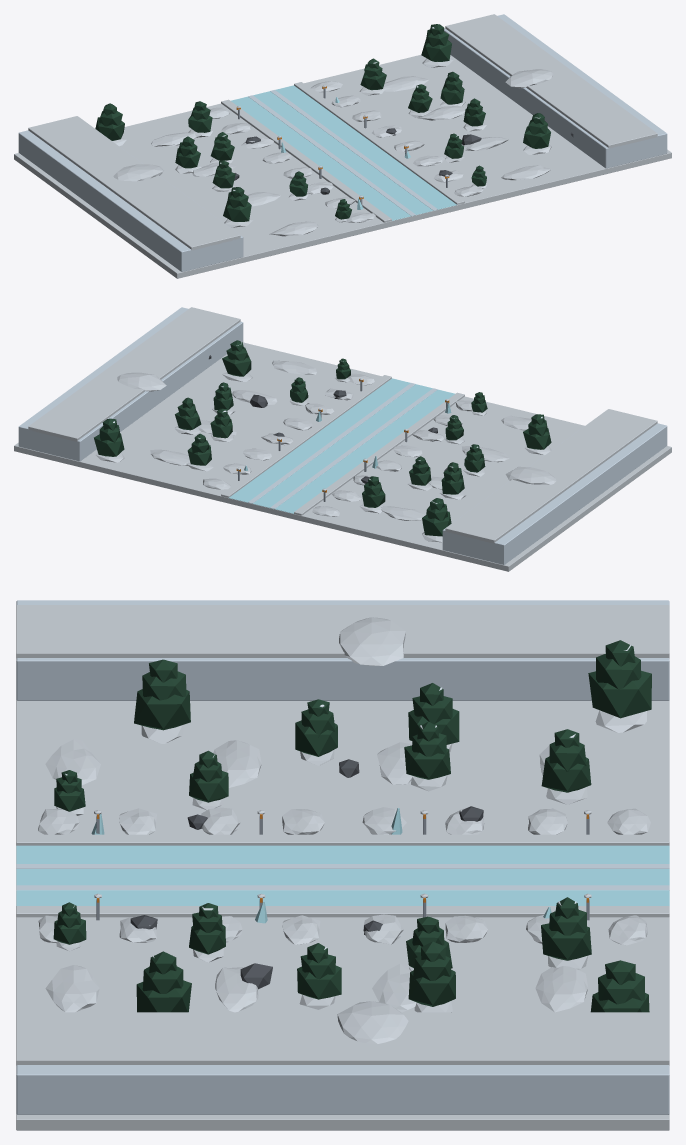
Rendered from MenuRideSegment_C.fbx.
The picture shows the model from 3 angles, top to bottom: view 1: azimuth 30°, elevation 25°; view 2: azimuth 150°, elevation 25°; view 3: azimuth 270°, elevation 25°; orthographic projection. The views are drawn at different scales.
Visible parts, largest first — view 1: MenuRideSegment_C; view 2: MenuRideSegment_C; view 3: MenuRideSegment_C.
Boxes of the visible parts, box(x1,y1,x2,y2) form: MenuRideSegment_C: box(14, 14, 671, 278); MenuRideSegment_C: box(14, 307, 671, 571); MenuRideSegment_C: box(16, 600, 669, 1130).
Size of the model in its own units: 5600 by 511 by 3200.
